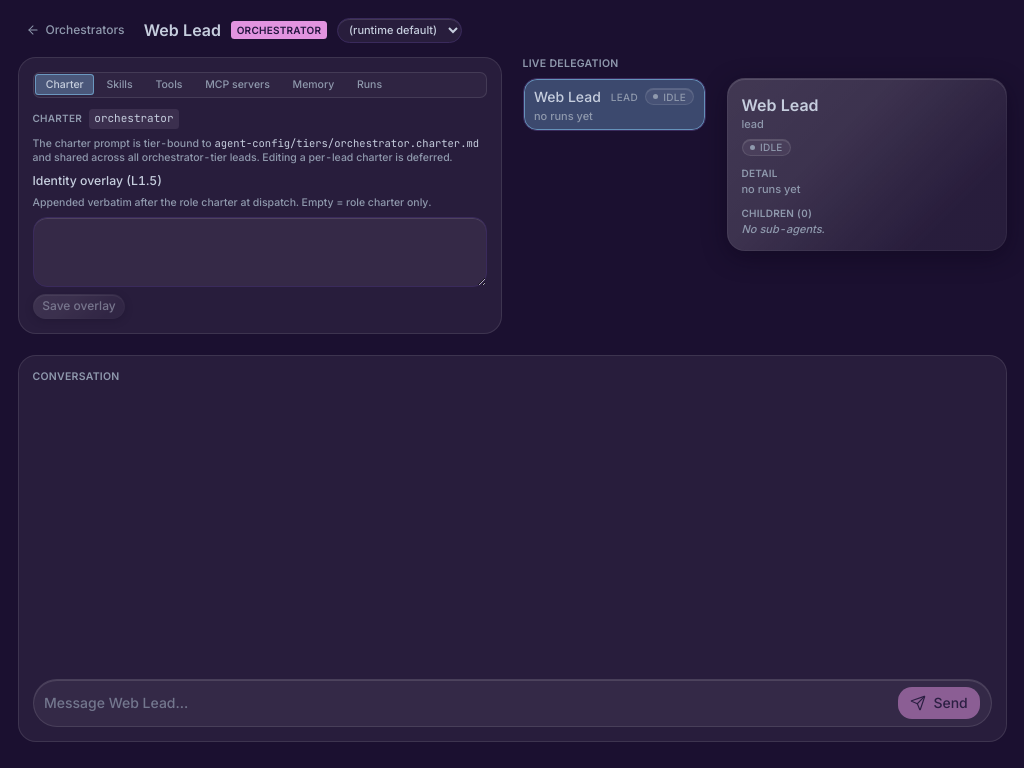
Test: OrchestratorDetailPage — Runs tab › shows an empty state when the lead has no recentRuns
Check: the 1st heading "Web Lead" is shown, box [144,18,221,42]
Click the button with test id "seg-runs": (370,85) [346,74,393,95]
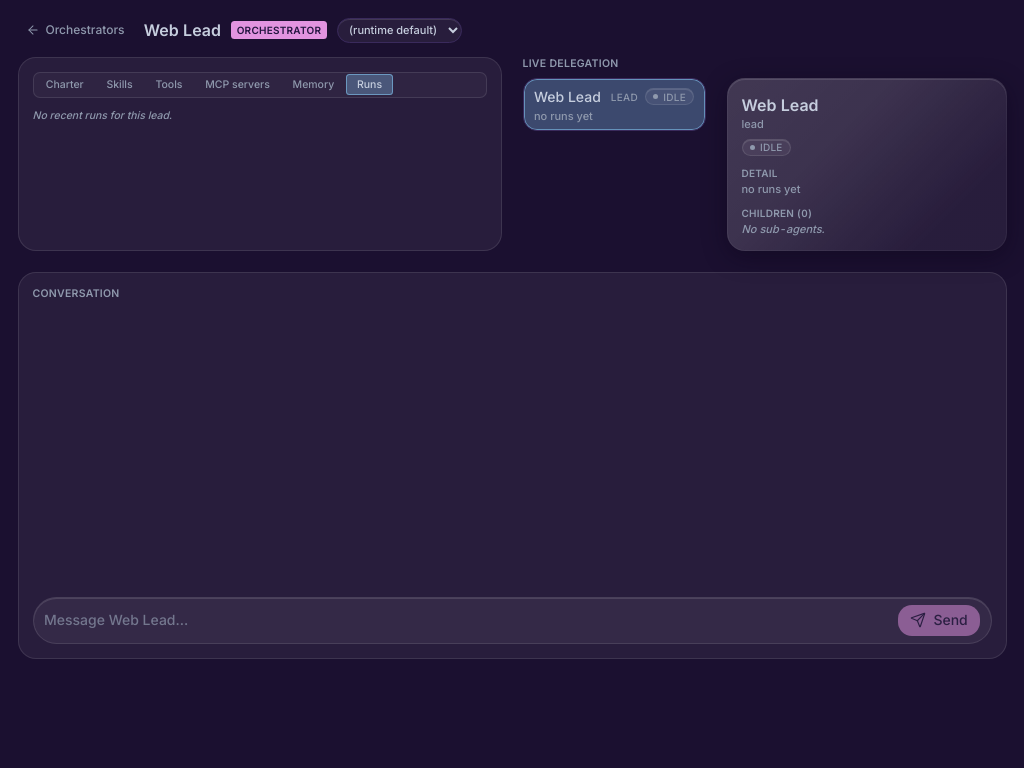
Check: the text "No recent runs for this lead." is shown, box [32,108,172,122]
